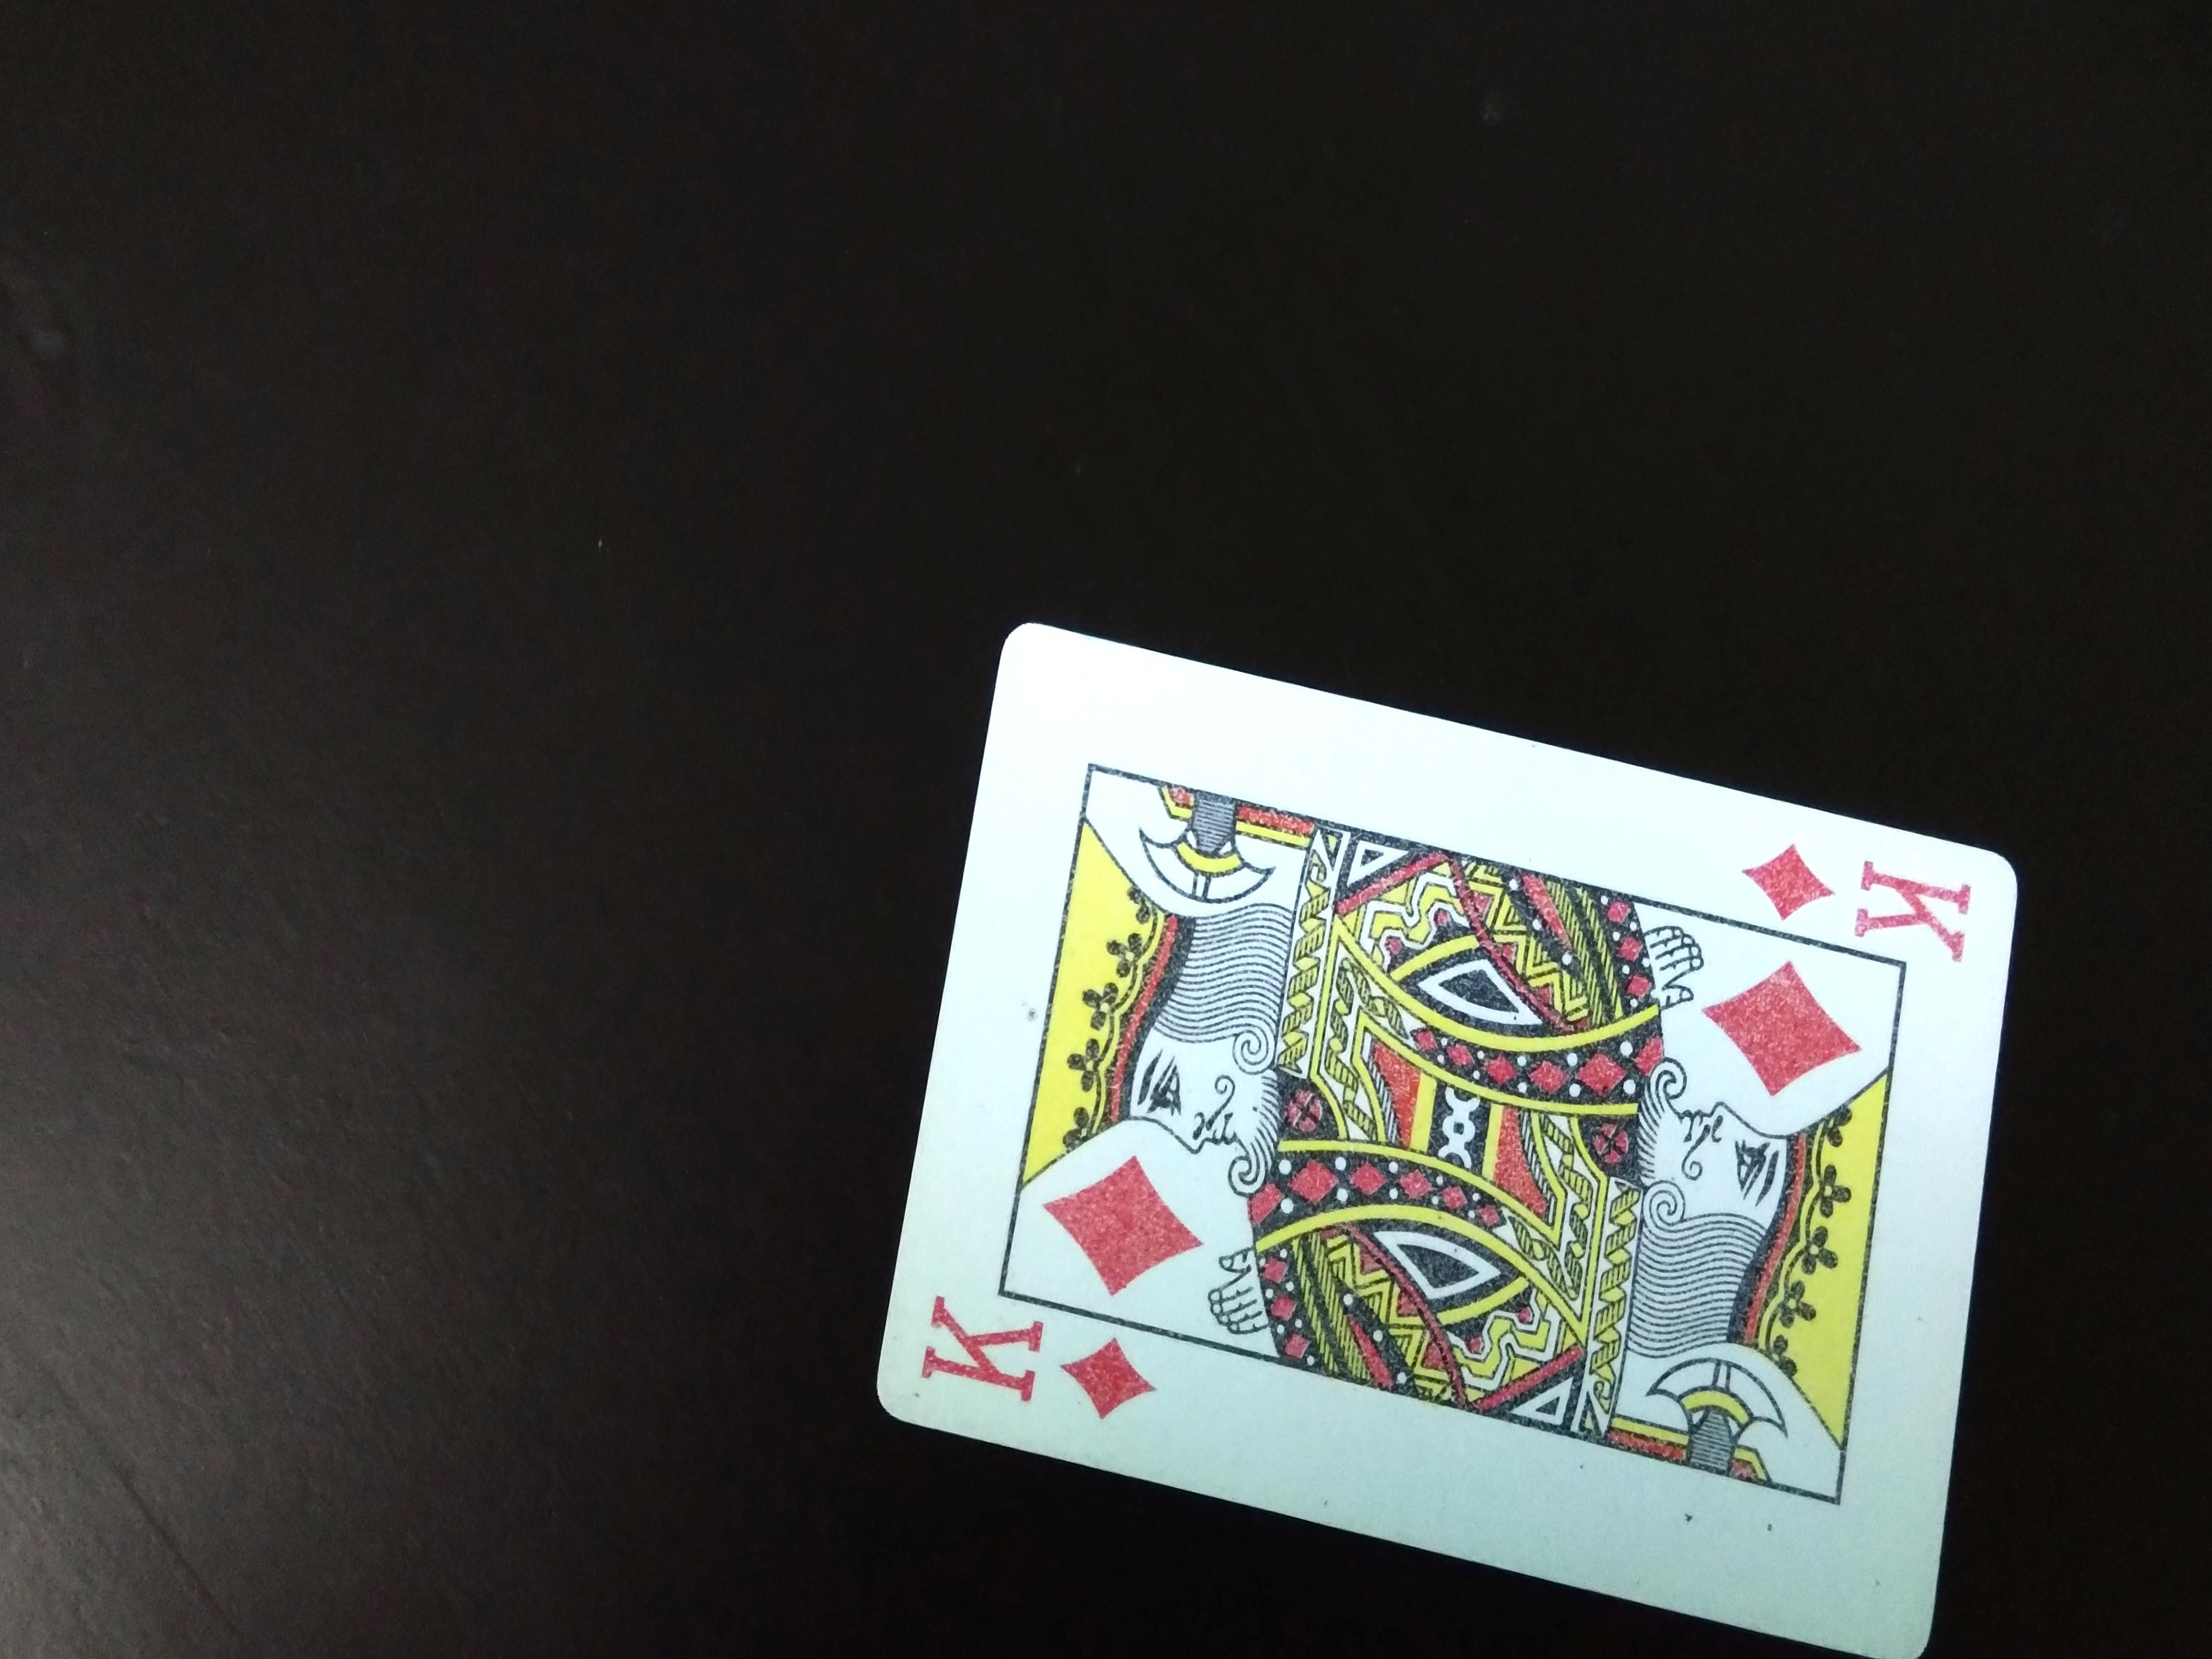KD: (1728, 819, 1986, 960)
